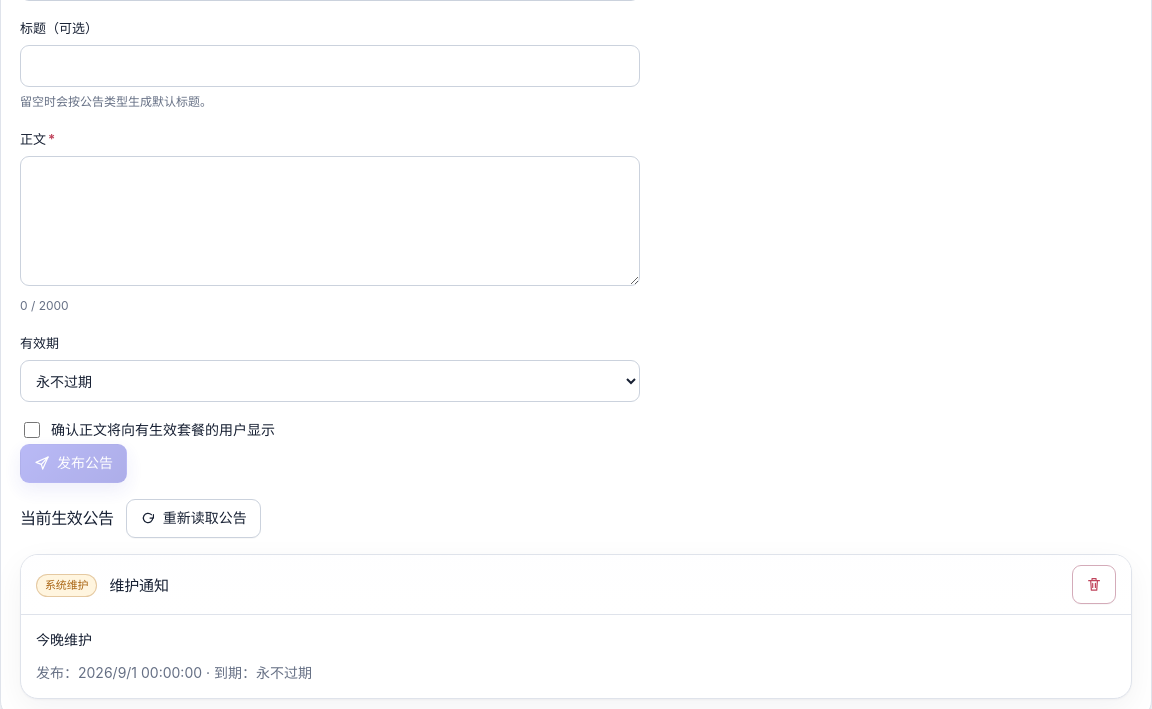
it: Web announcement administration › deletes one confirmed announcement
(page scrolled)
Click the button named "删除公告：维护通知" at [1094, 584], box [1072, 565, 1116, 604]
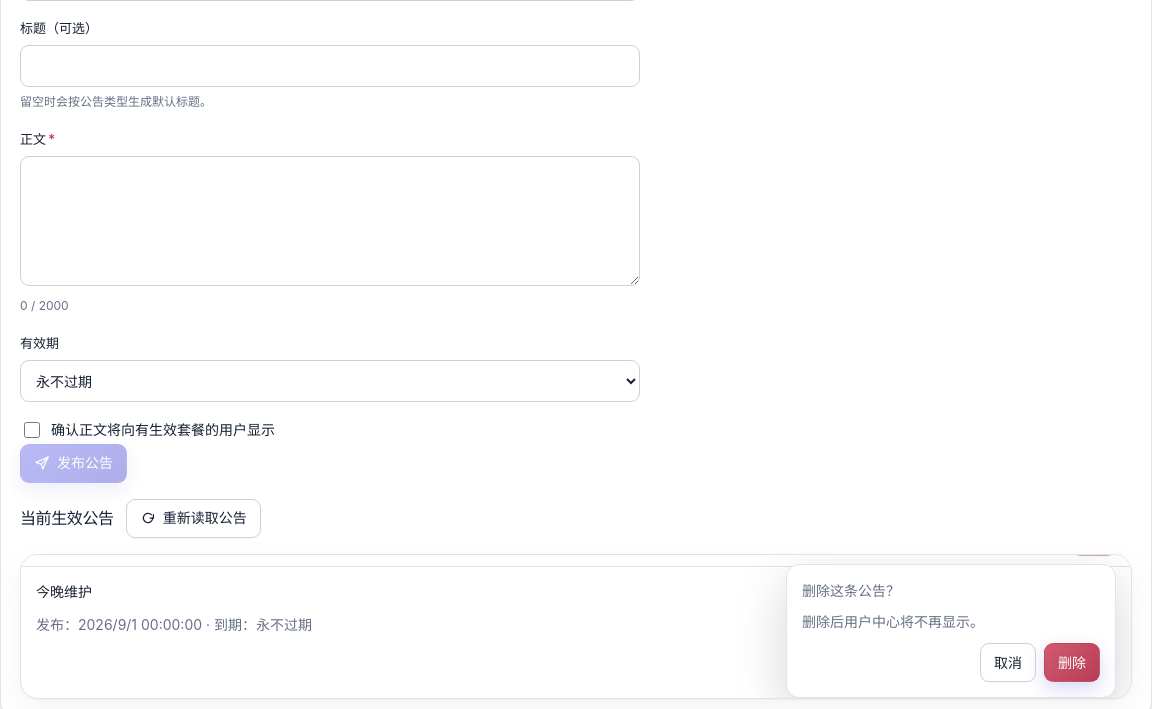
Check: the button "删除" is shown
Click the button "删除" at [1072, 663], box [1044, 643, 1100, 682]
(page scrolled)
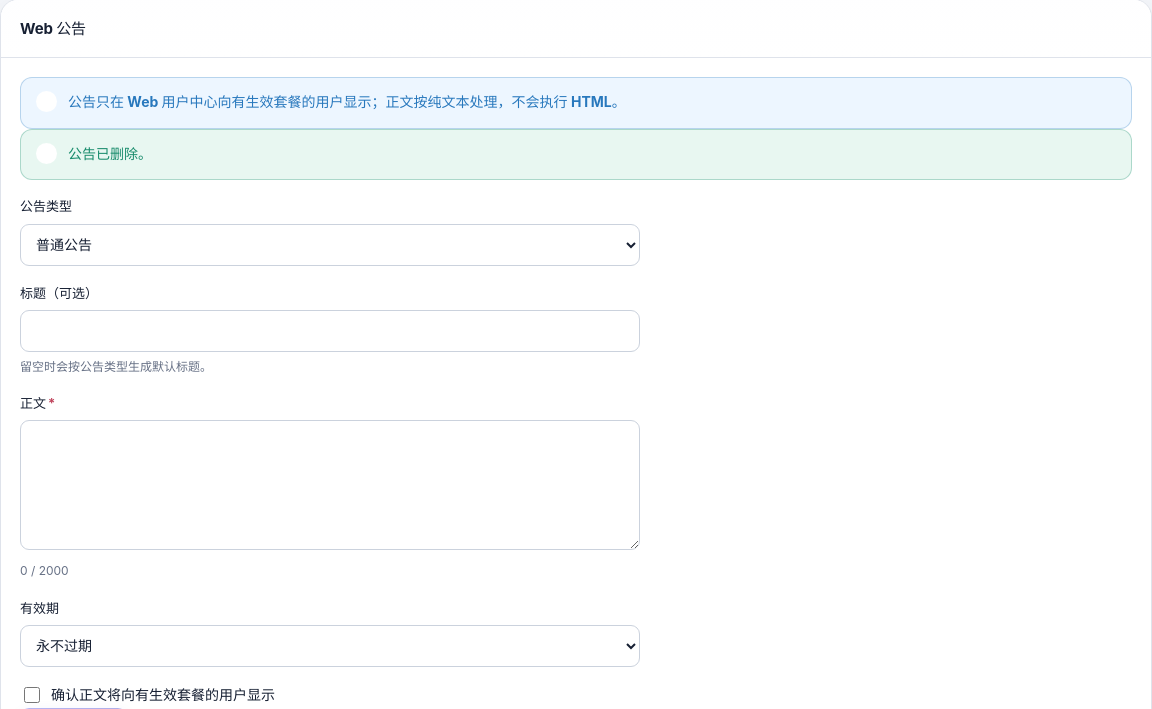
Check: the text "今晚维护" is gone
Check: the text "公告已删除。" is shown, box [68, 145, 152, 162]
